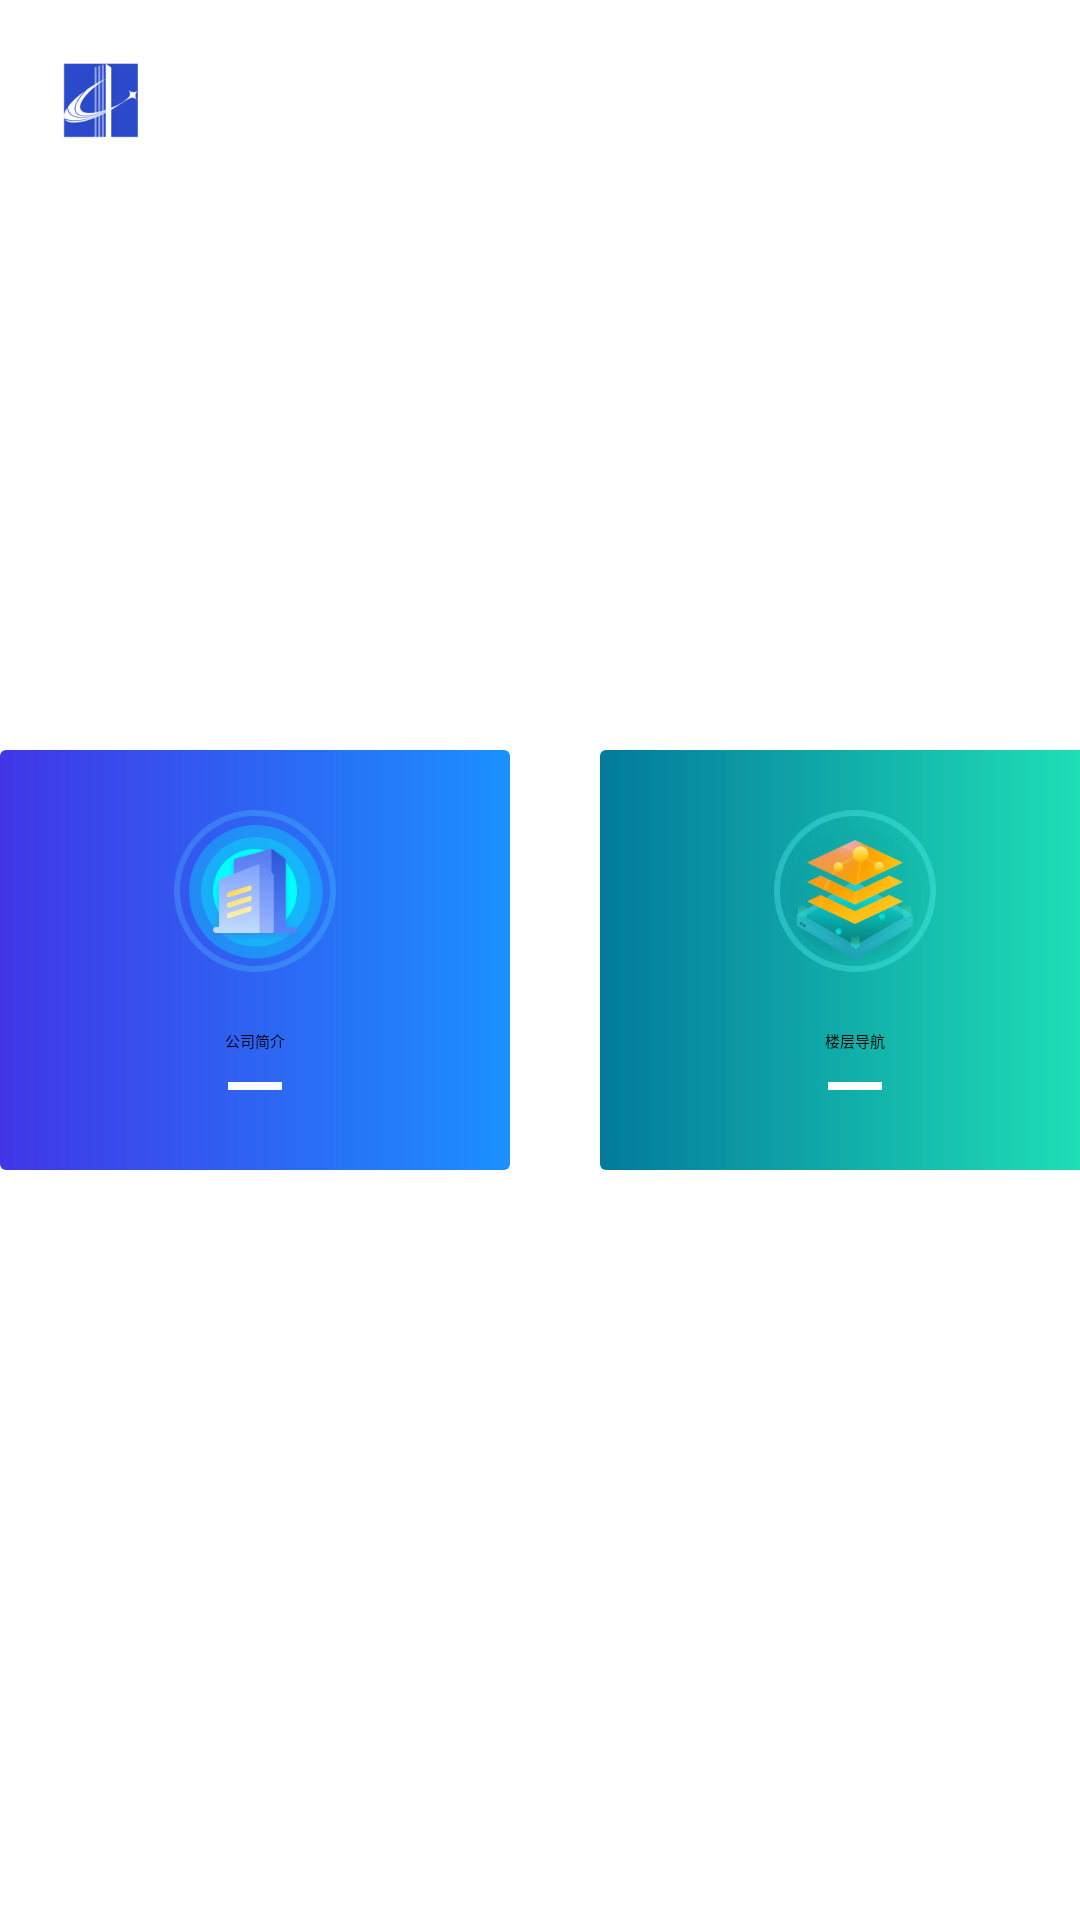

Where to tap for icons on this 1080x1920 app screen, as (x=x, y=y):
company profile: (x=258, y=891)
floor navigation: (x=855, y=891)
